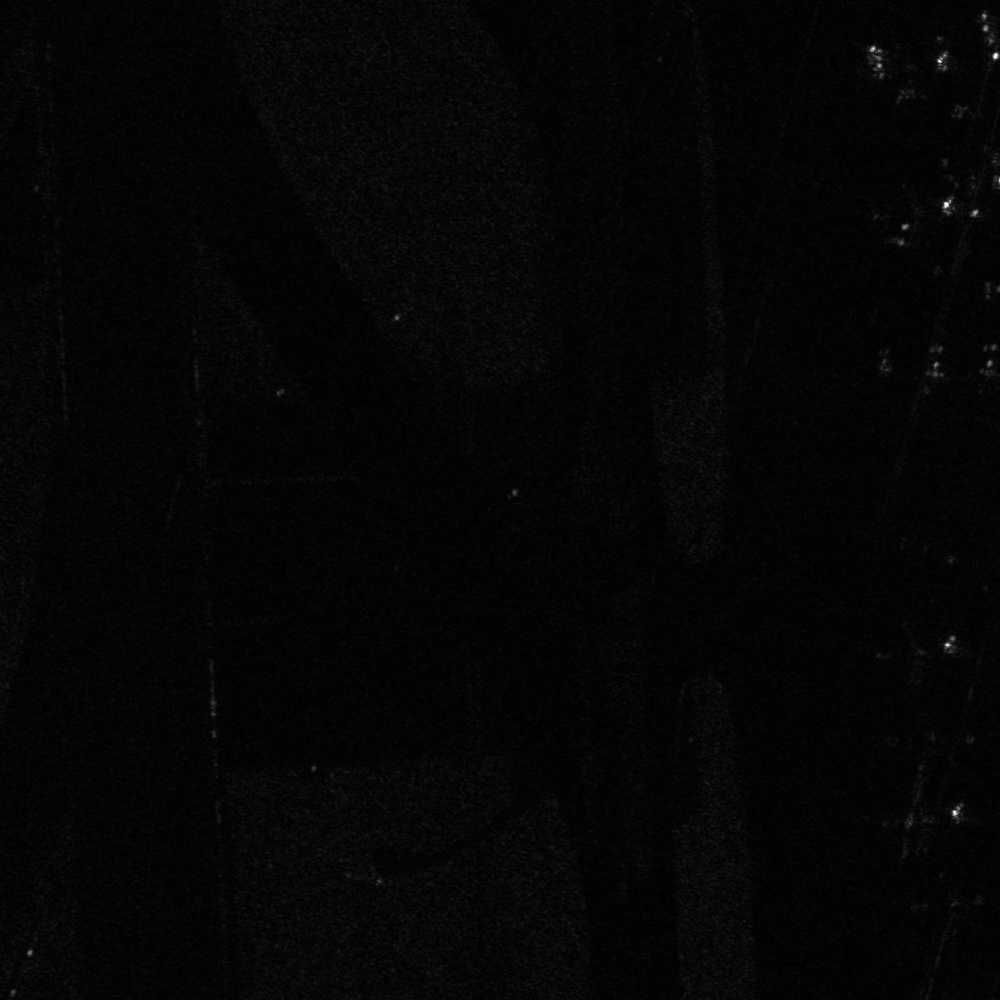A220: (861, 613, 974, 696), (874, 771, 971, 854)
ARJ21: (883, 860, 981, 971), (856, 25, 962, 108)
other: (847, 162, 964, 258)
